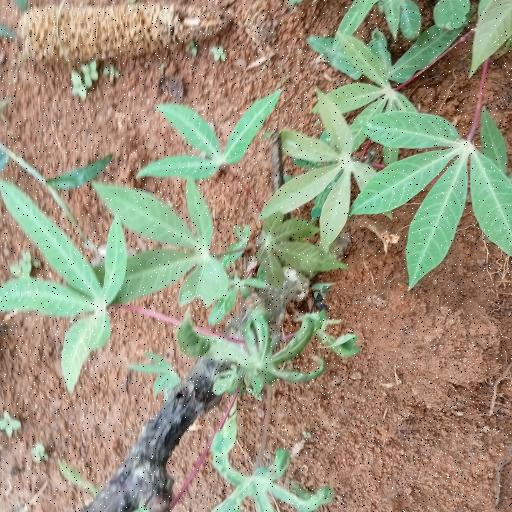Cassava_Mosaic: (1, 156, 132, 394), (258, 99, 382, 256)
